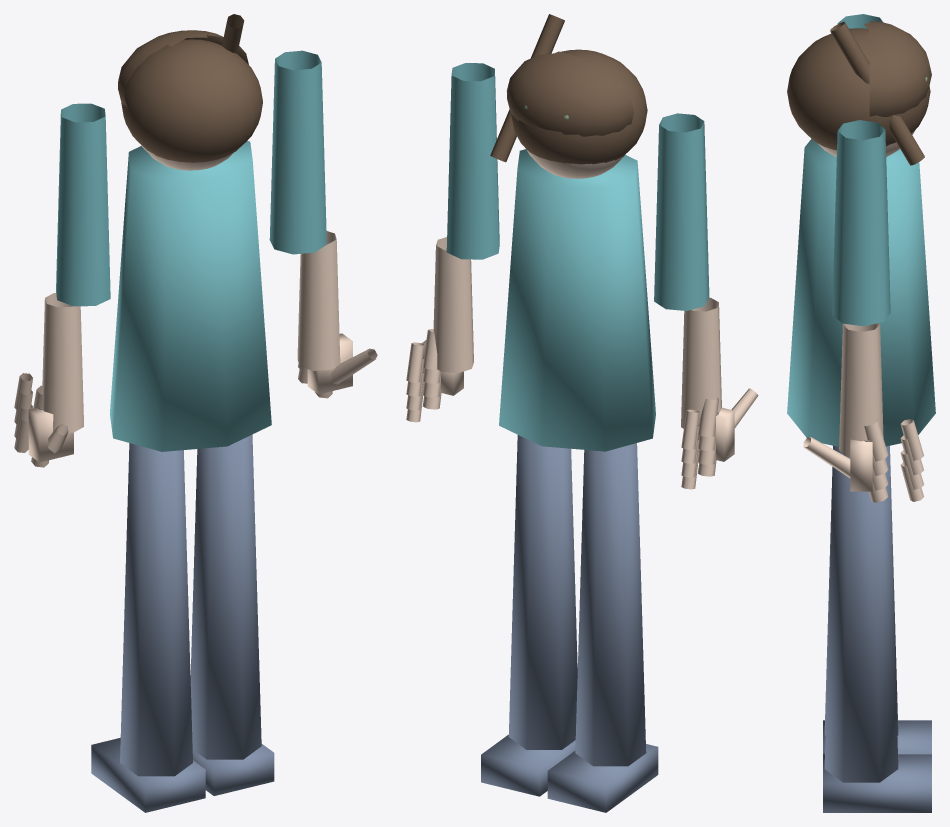
File: npc_zero.glb
The picture shows the model from 3 angles, left to right: view 1: azimuth 30°, elevation 25°; view 2: azimuth 150°, elevation 25°; view 3: azimuth 270°, elevation 25°; orthographic projection. The views are drawn at different scales.
Parts seen in each view (by area): view 1: npc_zero; view 2: npc_zero; view 3: npc_zero.
Part boxes in pixels (x1,y1,x2,y2): npc_zero: (14,14,377,812); npc_zero: (406,14,758,812); npc_zero: (787,14,935,812).
Size of the model in its own units: 0.7513 by 1.72 by 0.2994.
